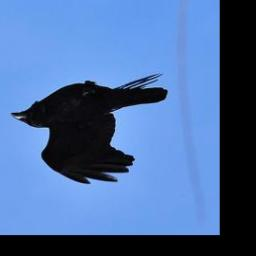Crow: (10, 71, 168, 185)
